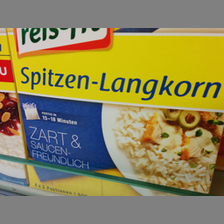rice: (6, 28, 224, 196)
